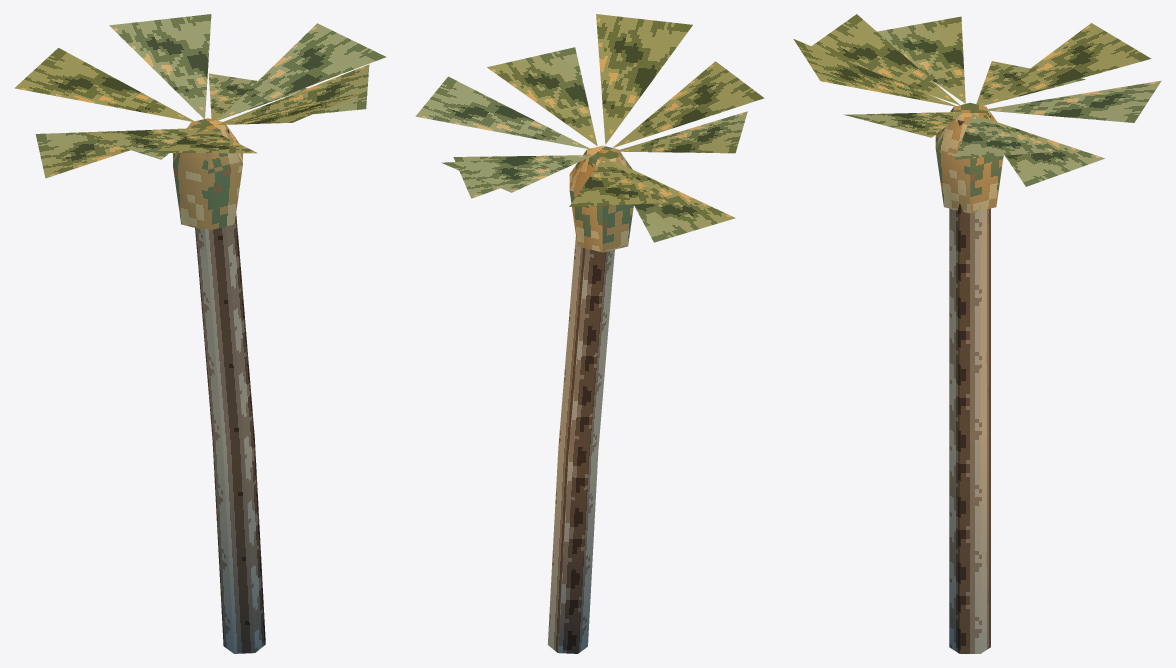
The model's file is wland.palm.glb.
The picture shows the model from 3 angles, left to right: view 1: azimuth 30°, elevation 25°; view 2: azimuth 150°, elevation 25°; view 3: azimuth 270°, elevation 25°; orthographic projection. The views are drawn at different scales.
Visible parts, largest first — view 1: kit_card_fronds_back, kit_trunks, kit_skirts; view 2: kit_card_fronds_back, kit_trunks, kit_skirts; view 3: kit_card_fronds_back, kit_trunks, kit_skirts.
Part boxes in pixels (left/top/right/bottom): kit_card_fronds_back: left=14, top=14, right=385, bottom=178; kit_trunks: left=195, top=127, right=265, bottom=653; kit_skirts: left=173, top=118, right=242, bottom=230; kit_card_fronds_back: left=415, top=14, right=764, bottom=242; kit_trunks: left=547, top=154, right=622, bottom=653; kit_skirts: left=569, top=145, right=633, bottom=252; kit_card_fronds_back: left=793, top=14, right=1161, bottom=186; kit_trunks: left=949, top=114, right=990, bottom=653; kit_skirts: left=935, top=102, right=1003, bottom=213.
Bounding box in the file's own units: 3.86 × 6.87 × 3.9.
3 materials, 3 textured.
